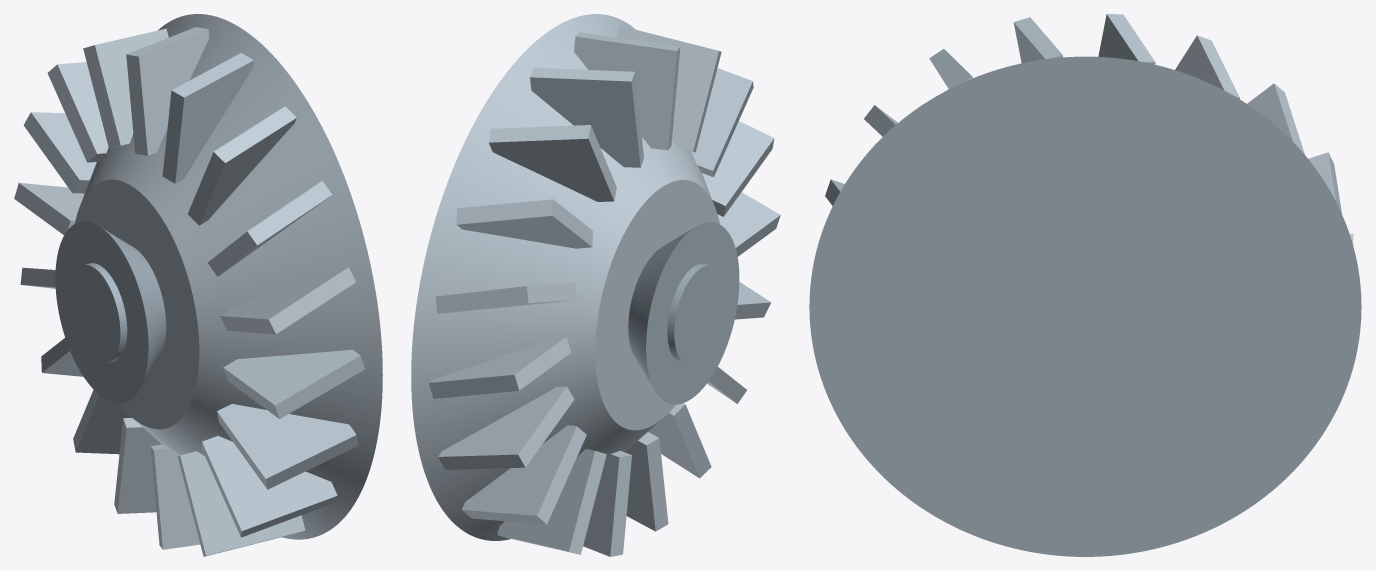
The model's file is radial-impeller.glb.
3 views of the same model, side by side, from view 1: azimuth 30°, elevation 25°; view 2: azimuth 150°, elevation 25°; view 3: azimuth 270°, elevation 25° (orthographic). The views are drawn at different scales.
Parts seen in each view (by area): view 1: radial-impeller - blade, radial-impeller - steel; view 2: radial-impeller - blade, radial-impeller - steel; view 3: radial-impeller - blade.
Part boxes in pixels (<box>): radial-impeller - blade: <box>14,14,382,556</box>; radial-impeller - steel: <box>55,221,166,403</box>; radial-impeller - blade: <box>411,14,780,556</box>; radial-impeller - steel: <box>628,222,739,404</box>; radial-impeller - blade: <box>809,14,1361,556</box>.
Size of the model in its own units: 0.665 by 2.02 by 2.02.
